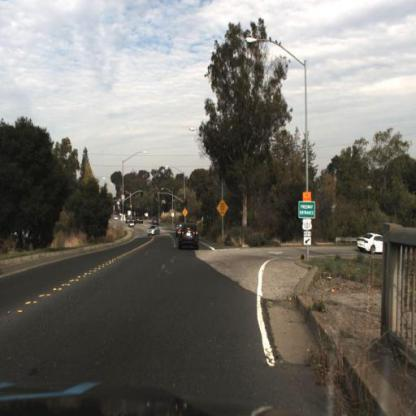car: (177, 222, 202, 254), (359, 231, 392, 255), (147, 222, 163, 242)
